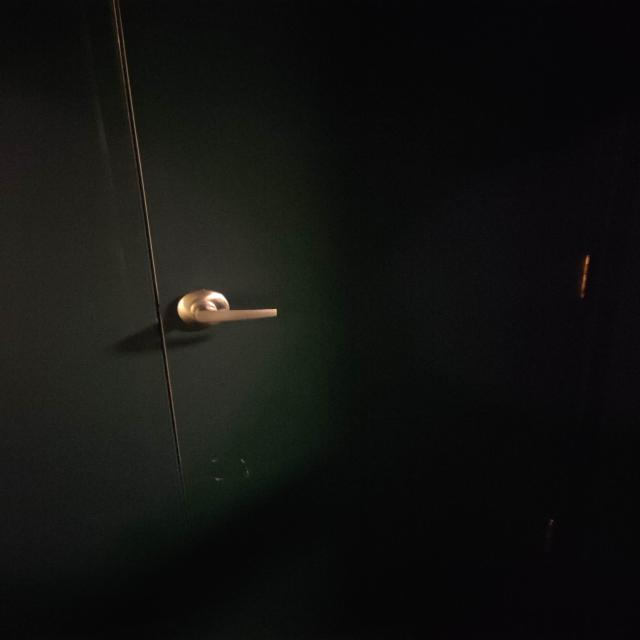door-handle: (177, 290, 277, 325)
